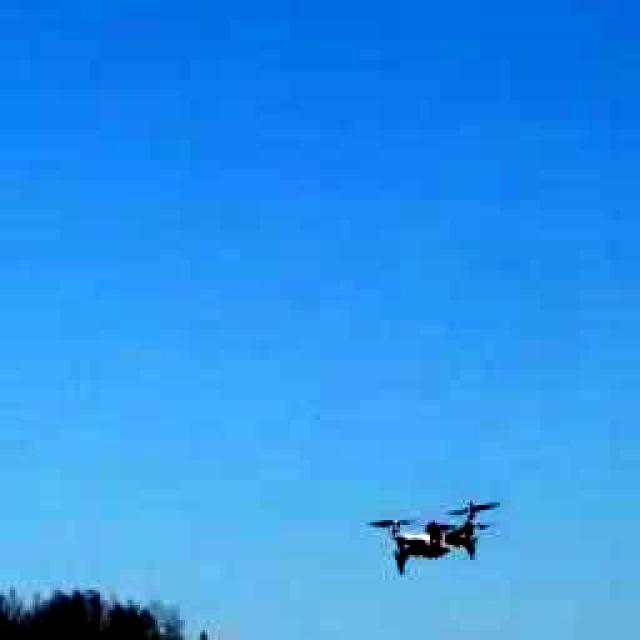bird: (342, 485, 525, 588)
